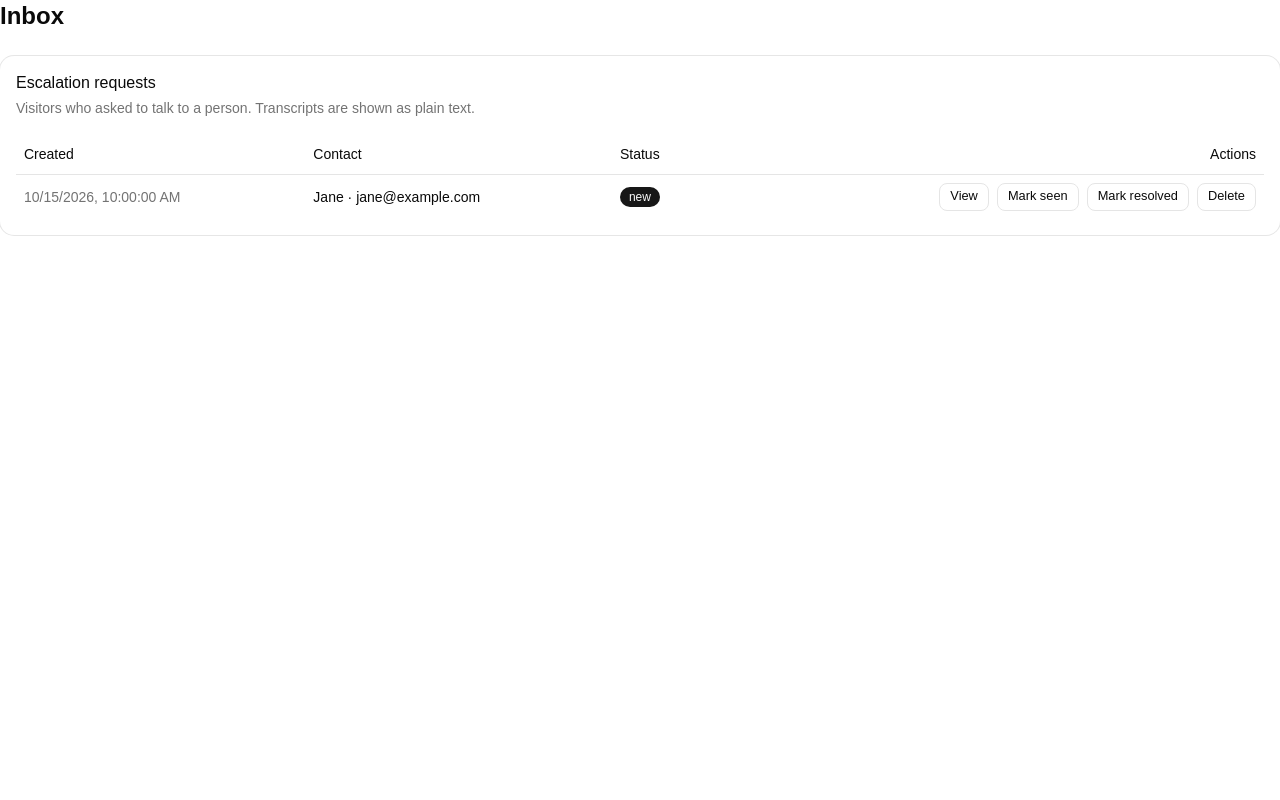
it: InboxScreen › loads and shows the unescaped transcript as plain text when View is clicked
Expected: the text "Jane · jane@example.com" is shown, top-left (305, 174), bottom-right (612, 218)
What coordinates should you click on to do the following:
click the button "View"
I would click on:
 (964, 196)
Its box is top-left (939, 182), bottom-right (989, 210).
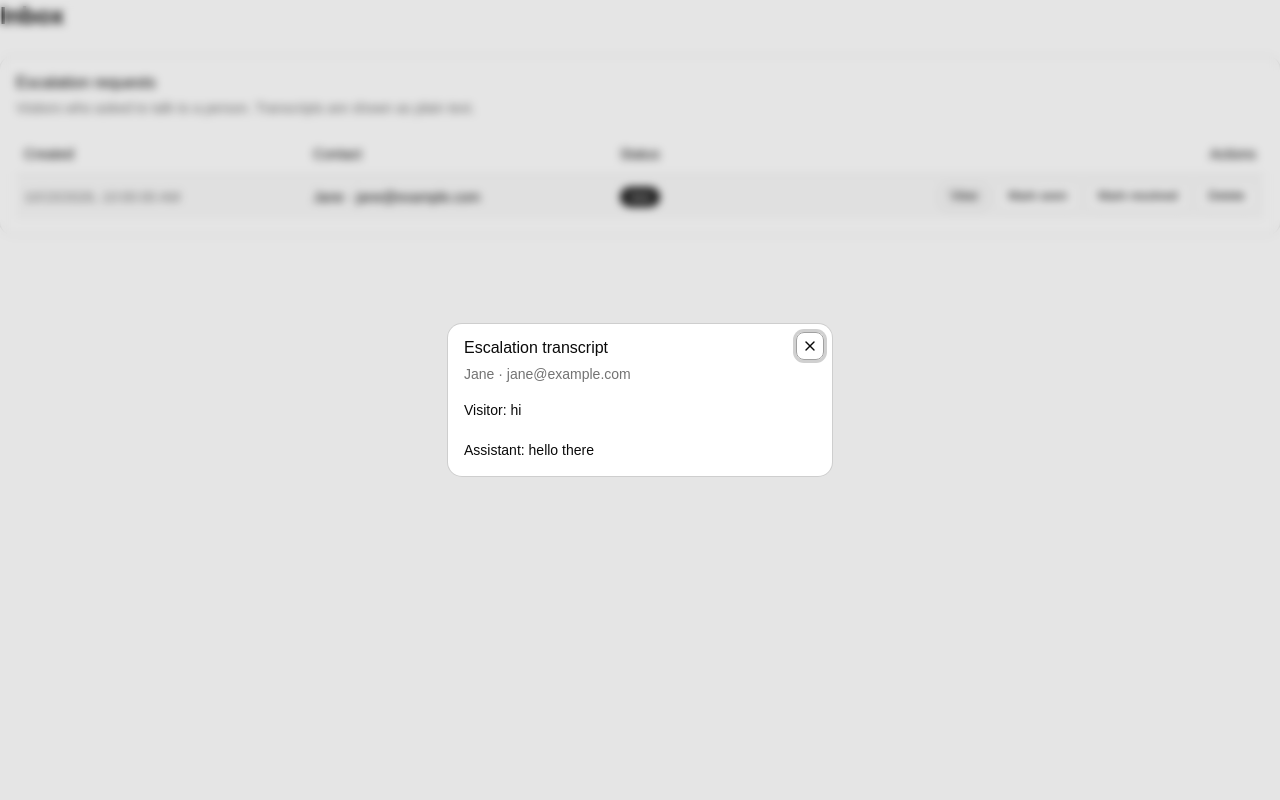
Now the text "Visitor: hi Assistant: hello there" is shown, box top-left (464, 402), bottom-right (594, 458)
